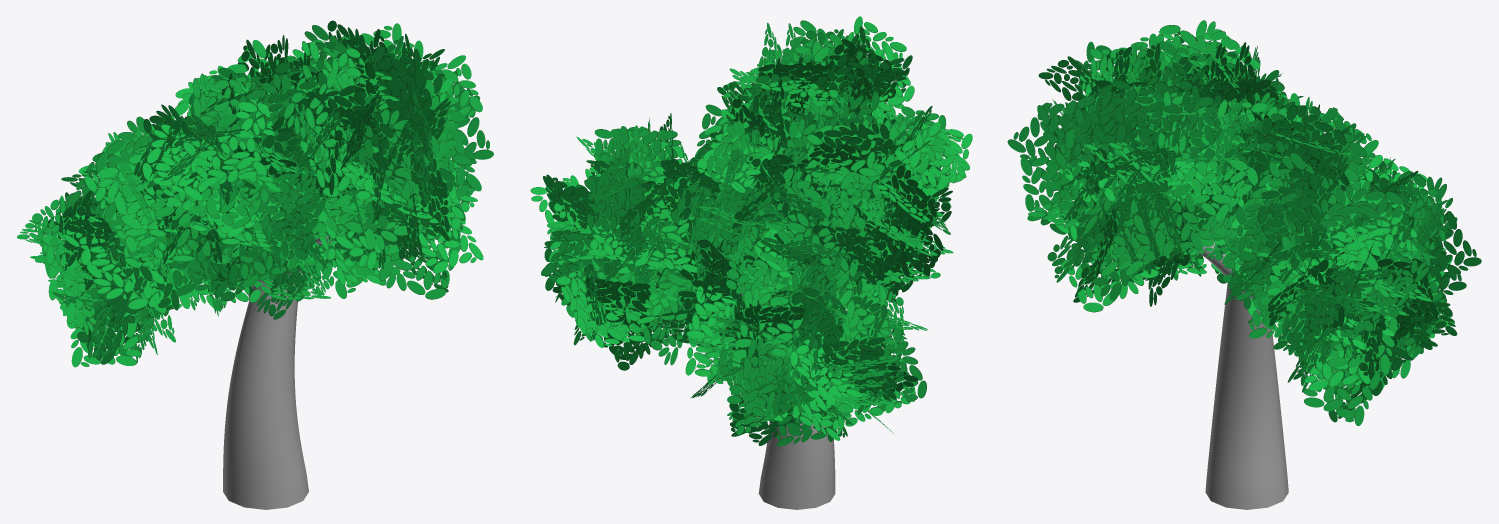
The model's file is Tree.fbx.
3 renders of one model, left to right at view 1: azimuth 30°, elevation 25°; view 2: azimuth 150°, elevation 25°; view 3: azimuth 270°, elevation 25°, orthographic. The views are drawn at different scales.
Visible parts, largest first — view 1: Trees3; view 2: Trees3; view 3: Trees3.
Part boxes in pixels (x1,y1,x2,y2): Trees3: (17,20,493,509); Trees3: (530,16,972,509); Trees3: (1007,20,1481,509).
Size of the model in its own units: 34.25 by 35.7 by 34.48.
